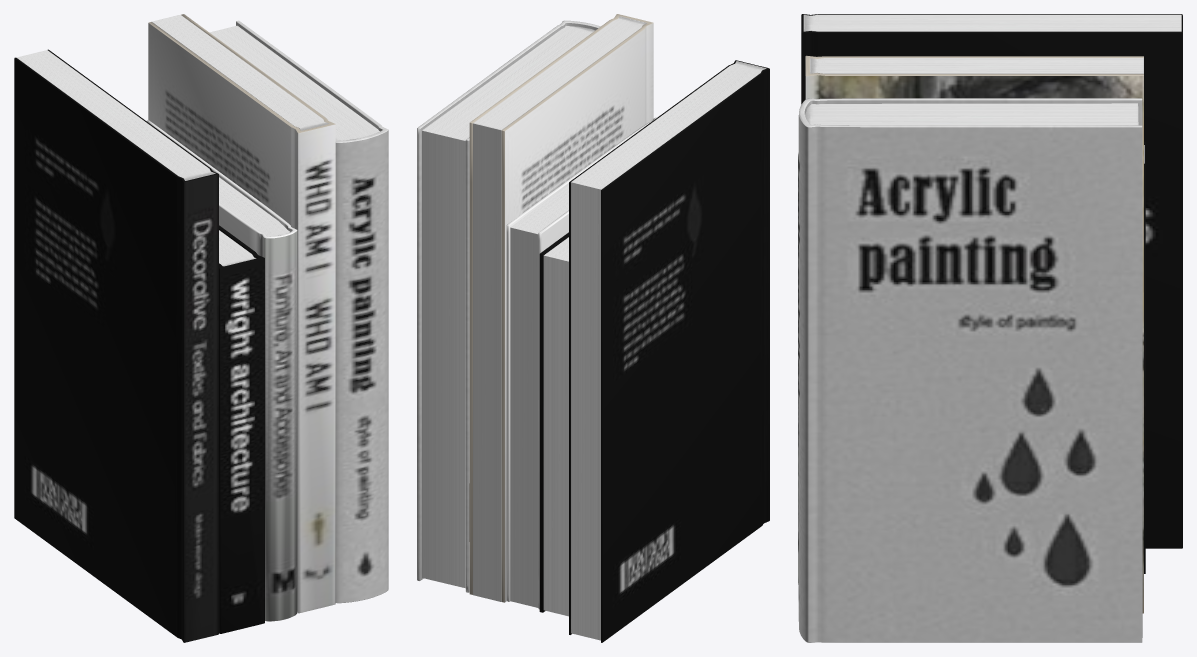
Rendered from book_collection_set_2_18.glb.
3 renders of one model, left to right at view 1: azimuth 30°, elevation 25°; view 2: azimuth 150°, elevation 25°; view 3: azimuth 270°, elevation 25°, orthographic. The views are drawn at different scales.
Parts seen in each view (by area): view 1: BP_book_collection_set_2_18; view 2: BP_book_collection_set_2_18; view 3: BP_book_collection_set_2_18.
Part boxes in pixels (bbox=[...]): BP_book_collection_set_2_18: bbox=[14, 14, 388, 642]; BP_book_collection_set_2_18: bbox=[417, 14, 769, 642]; BP_book_collection_set_2_18: bbox=[798, 14, 1182, 642].
Bounding box in the file's own units: 0.1132 × 0.25 × 0.162.
6 materials, 6 textured.
